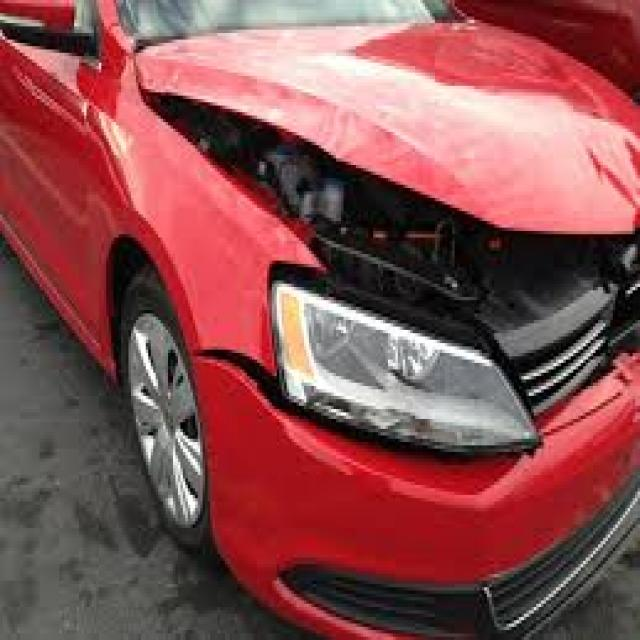moderate: (146, 66, 640, 343), (186, 343, 488, 498)
